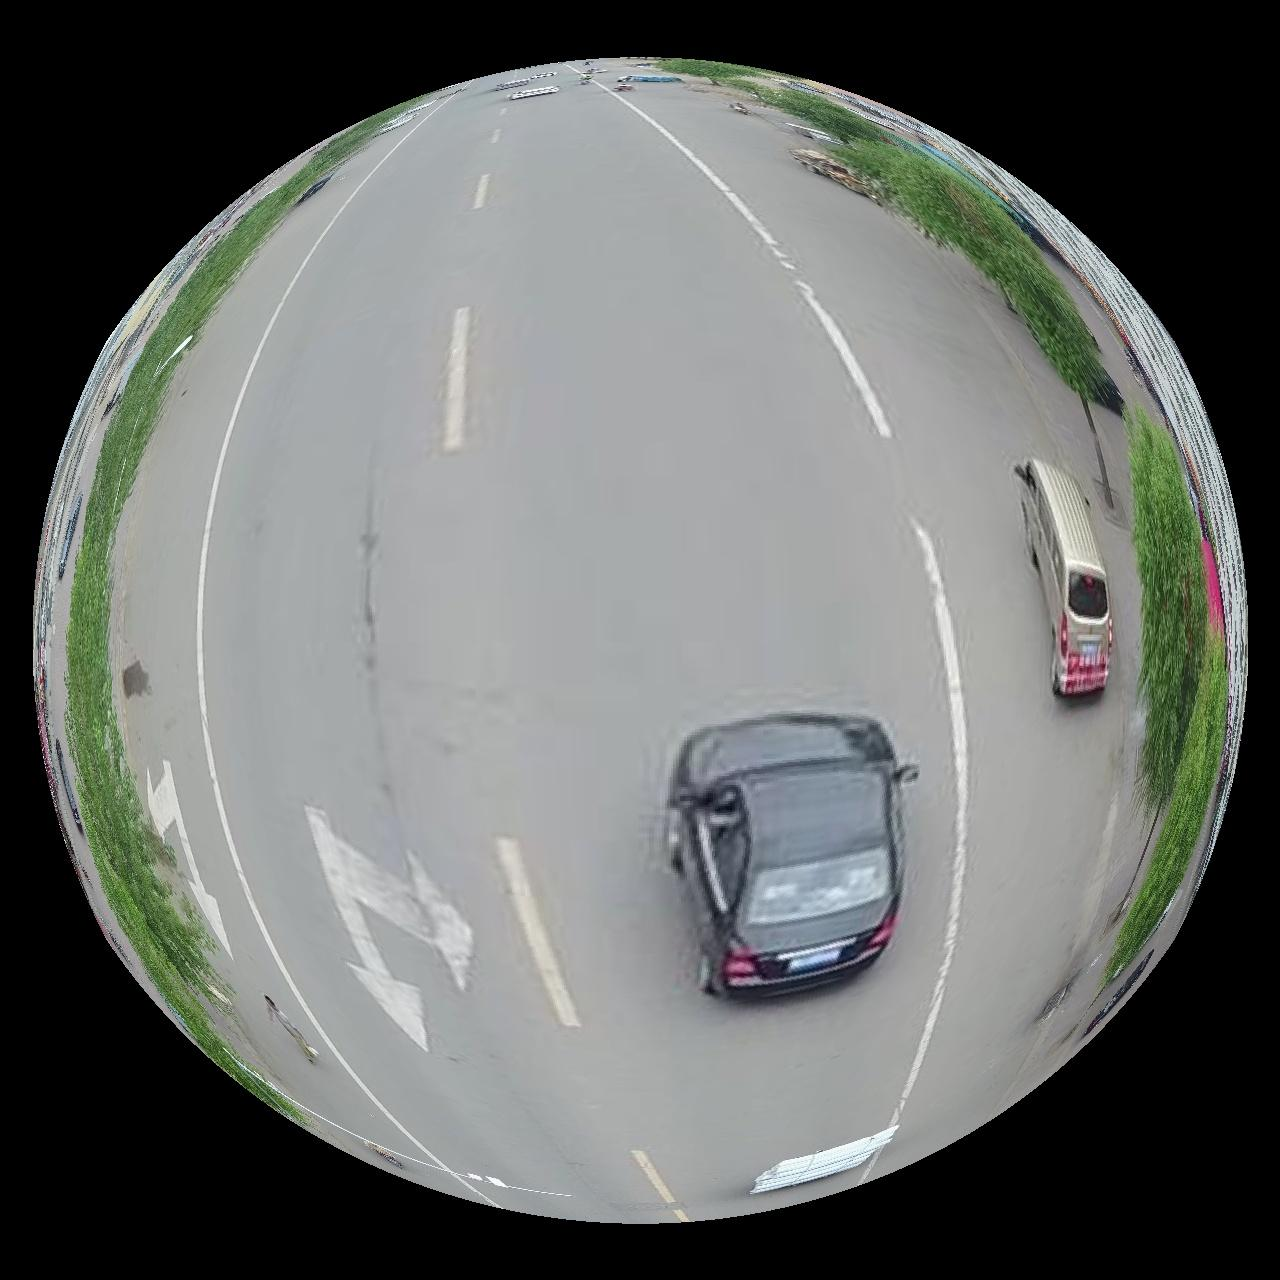cars: (669, 716, 910, 998), (1017, 459, 1116, 697), (753, 1129, 900, 1197)
trees: (42, 110, 394, 1107), (1109, 622, 1231, 980), (948, 191, 1122, 408), (1128, 407, 1211, 811), (837, 135, 1014, 266), (723, 70, 890, 147), (660, 57, 761, 82)
